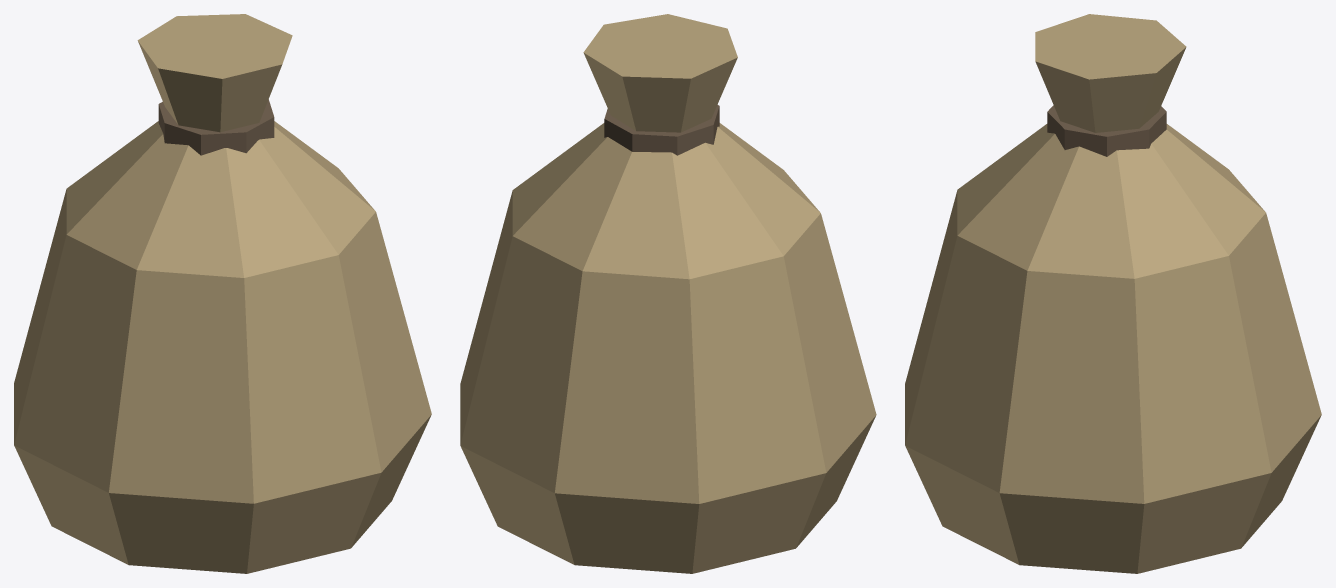
The model's file is bag.glb.
3 renders of one model, left to right at view 1: azimuth 30°, elevation 25°; view 2: azimuth 150°, elevation 25°; view 3: azimuth 270°, elevation 25°, orthographic.
Visible parts, largest first — view 1: Bag; view 2: Bag; view 3: Bag.
Part boxes in pixels (x1,y1,x2,y2): Bag: [14, 14, 431, 573]; Bag: [460, 14, 876, 573]; Bag: [905, 14, 1321, 573].
Bounding box in the file's own units: 0.5318 × 0.63 × 0.5237.
